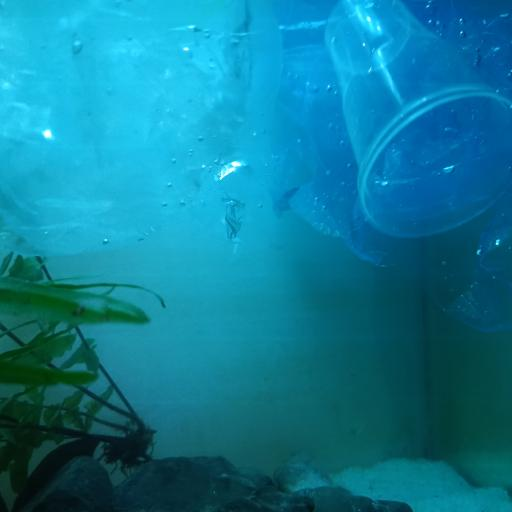plastic_bag: (274, 0, 512, 329), (1, 0, 263, 252)
plastic_cup: (322, 0, 512, 243)
